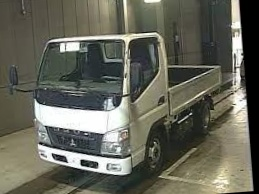truck: (28, 24, 228, 186)
